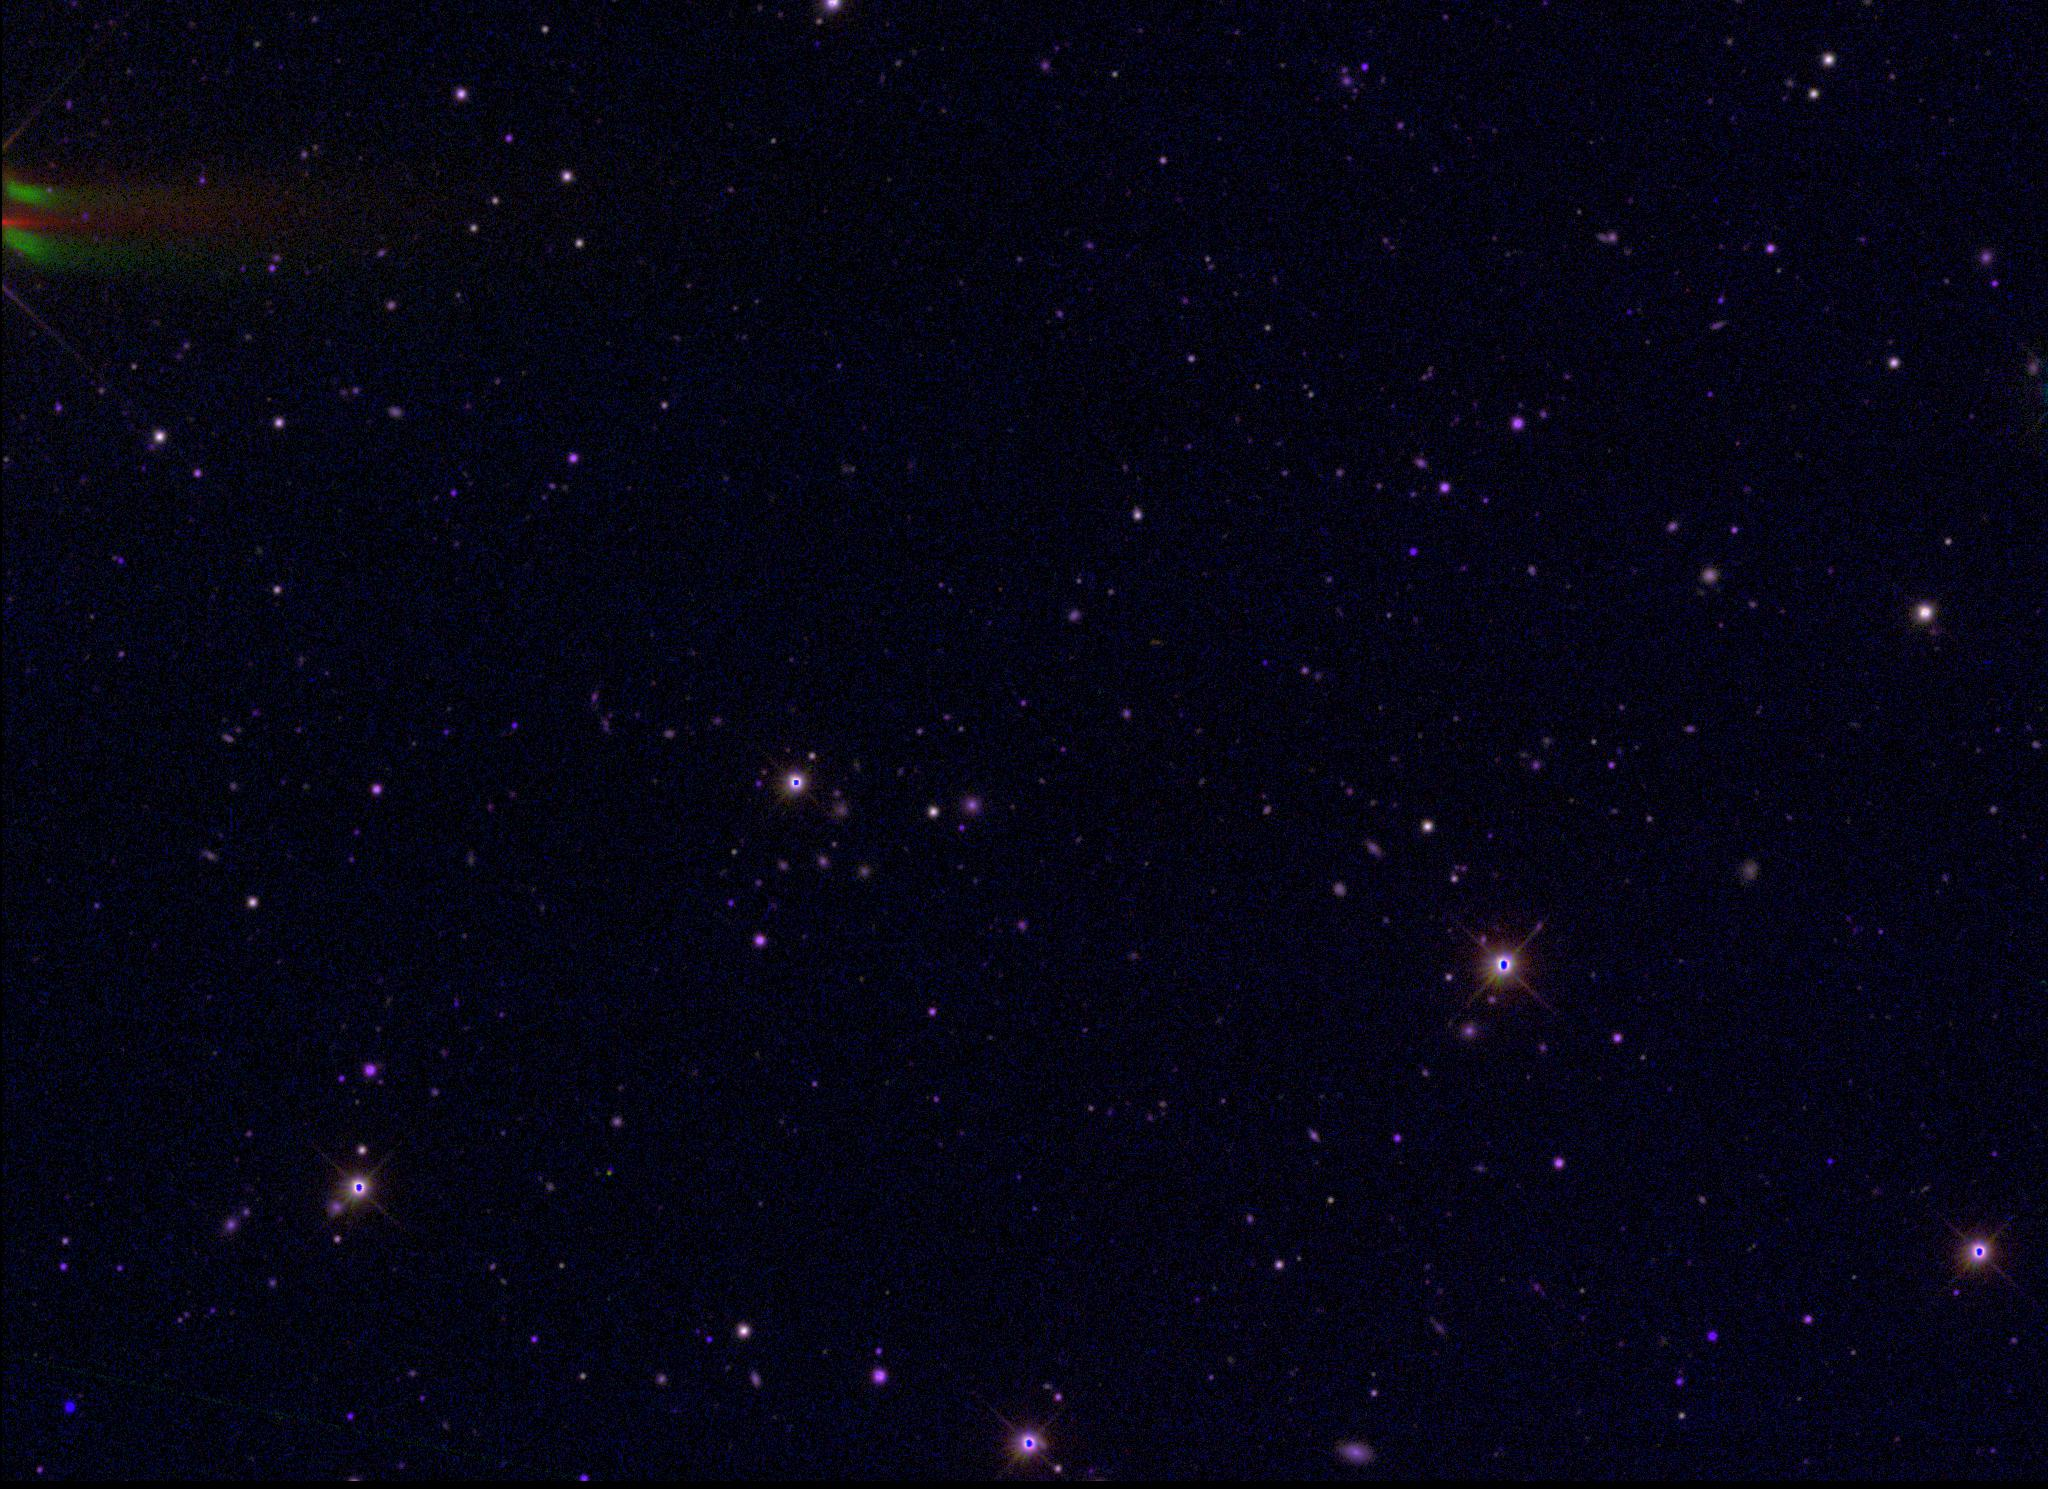L: (64, 1400, 76, 1414)
